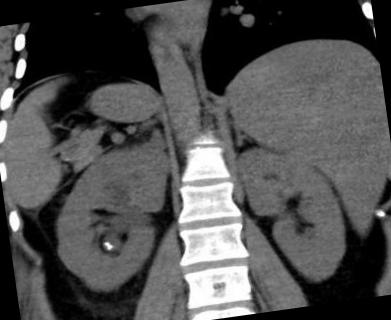Tas_Var: (101, 240, 110, 247), (105, 244, 114, 250)
